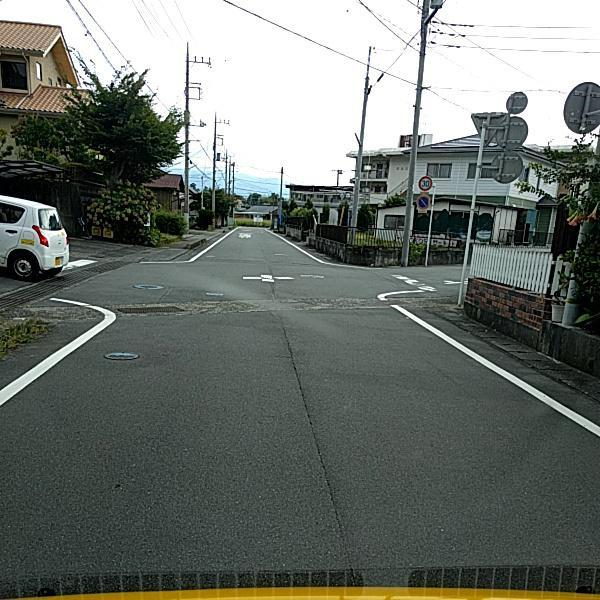D50: (101, 349, 136, 362), (129, 280, 163, 290)
